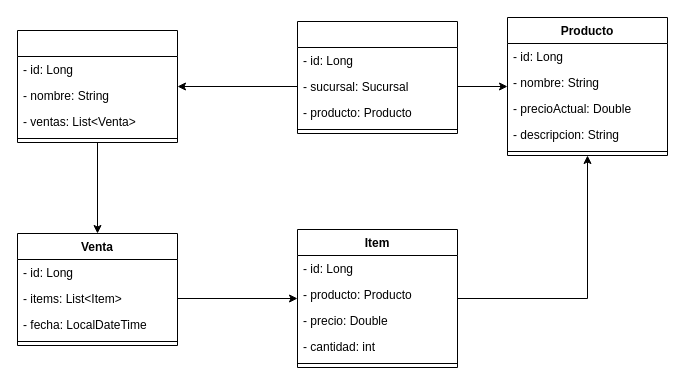
Some shapes in this 685 by 385 pixel diagram are drawn without their labels. The shapes that lost their labels are listed below. From the top down, each one's box as (x1, y1, x2, y2) in pixels, then its label:
(16, 30, 178, 142): Sucursal
(296, 20, 458, 134): SucursalXProducto
